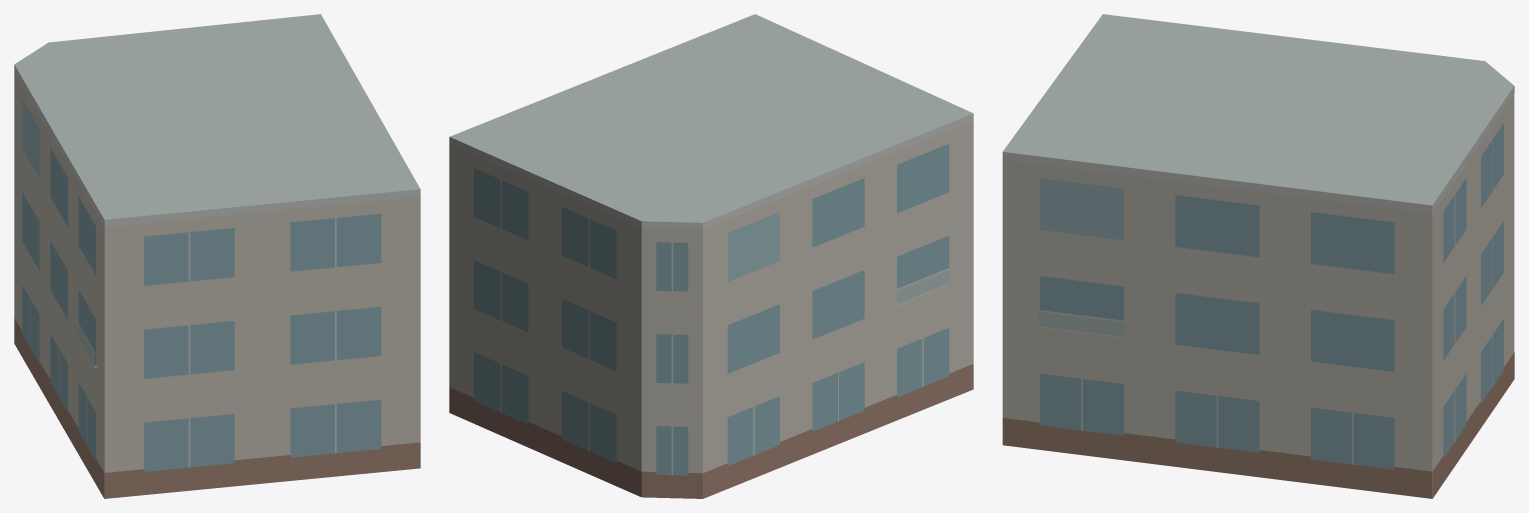
Rendered from survey-upis-32967960.glb.
3 views of the same model, side by side, from view 1: azimuth 30°, elevation 25°; view 2: azimuth 150°, elevation 25°; view 3: azimuth 270°, elevation 25° (orthographic). The views are drawn at different scales.
Visible parts, largest first — view 1: survey-upis-32967960.tmp; view 2: survey-upis-32967960.tmp; view 3: survey-upis-32967960.tmp.
Part boxes in pixels (x1=…): survey-upis-32967960.tmp: x1=14, y1=14, x2=420, y2=498; survey-upis-32967960.tmp: x1=449, y1=14, x2=973, y2=498; survey-upis-32967960.tmp: x1=1002, y1=14, x2=1514, y2=498.
Size of the model in its own units: 12.82 by 9.15 by 14.48.
